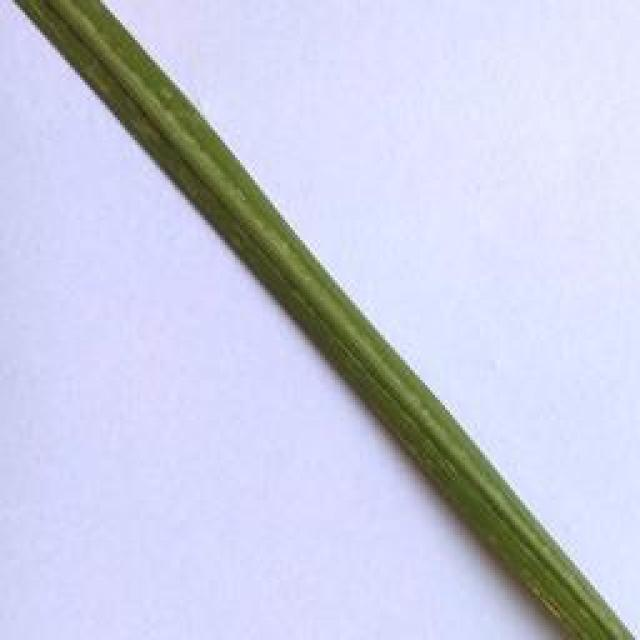Healthy-Plant: (18, 0, 633, 640)
